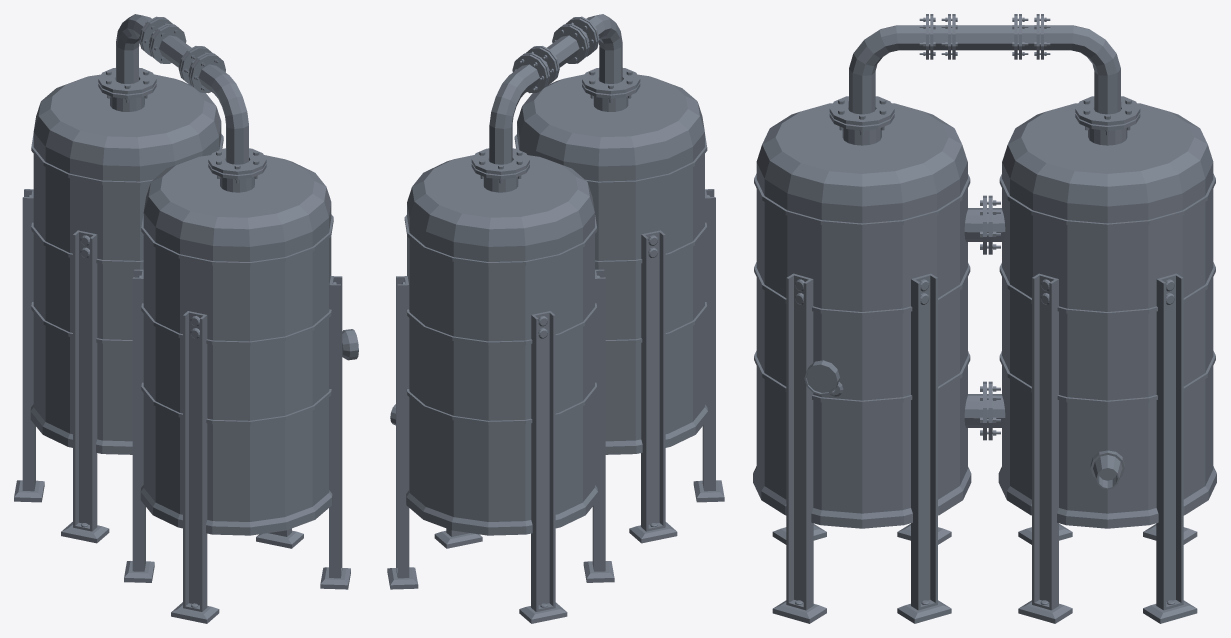
3 views of the same model, side by side, from view 1: azimuth 30°, elevation 25°; view 2: azimuth 150°, elevation 25°; view 3: azimuth 270°, elevation 25° (orthographic). The views are drawn at different scales.
Parts seen in each view (by area): view 1: Cylinder.013; view 2: Cylinder.013; view 3: Cylinder.013.
Boxes of the visible parts, x1,y1,x2,y2 form: Cylinder.013: (14,14,358,623); Cylinder.013: (387,14,724,623); Cylinder.013: (753,14,1216,623).
Size of the model in its own units: 1.77 by 4.33 by 3.25.
